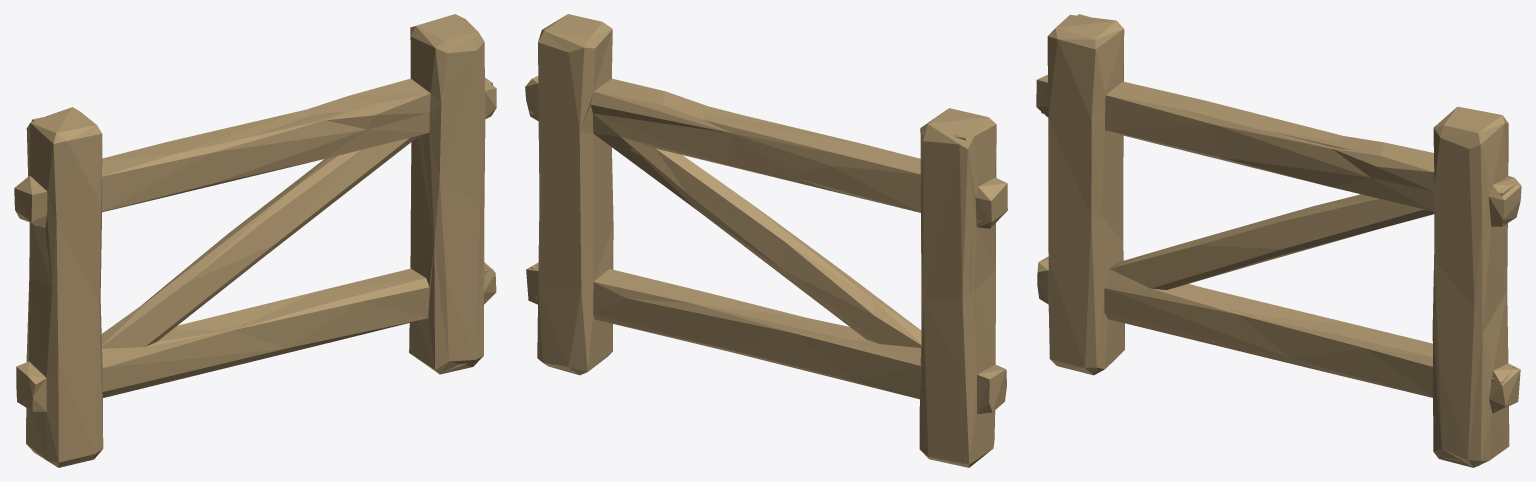
File: ENV_09_RAIL_game.glb
The picture shows the model from 3 angles, left to right: view 1: azimuth 30°, elevation 25°; view 2: azimuth 150°, elevation 25°; view 3: azimuth 330°, elevation 25°; orthographic projection.
Parts seen in each view (by area): view 1: ENV_09_RAIL; view 2: ENV_09_RAIL; view 3: ENV_09_RAIL.
Boxes of the visible parts, left/top/right/bottom form: ENV_09_RAIL: left=14, top=14, right=496, bottom=467; ENV_09_RAIL: left=525, top=14, right=1007, bottom=467; ENV_09_RAIL: left=1036, top=14, right=1521, bottom=467.
Bounding box in the file's own units: 1.74 × 1.2 × 0.2049.
